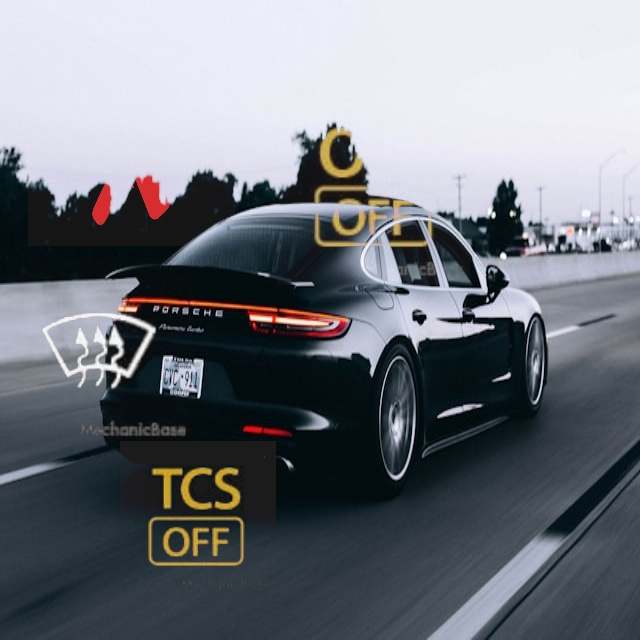symbol: (28, 39, 235, 246), (278, 93, 470, 285), (7, 259, 193, 445), (120, 441, 276, 597)
